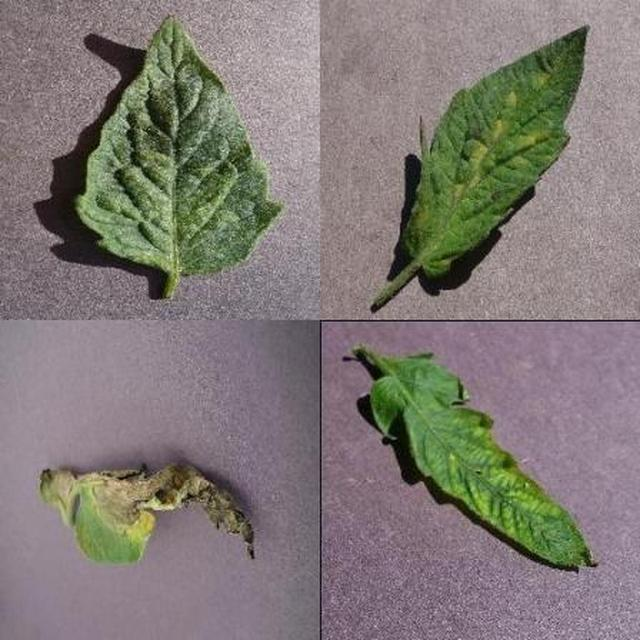Spider Mites Leaf: (209, 153, 640, 640)
